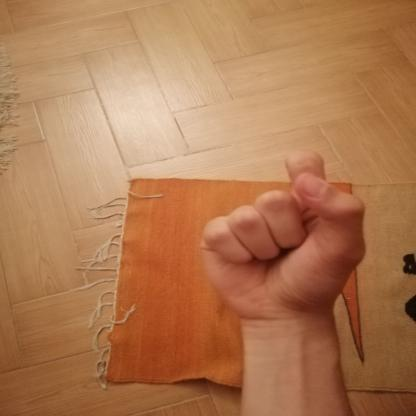FAA: (182, 138, 381, 332)
